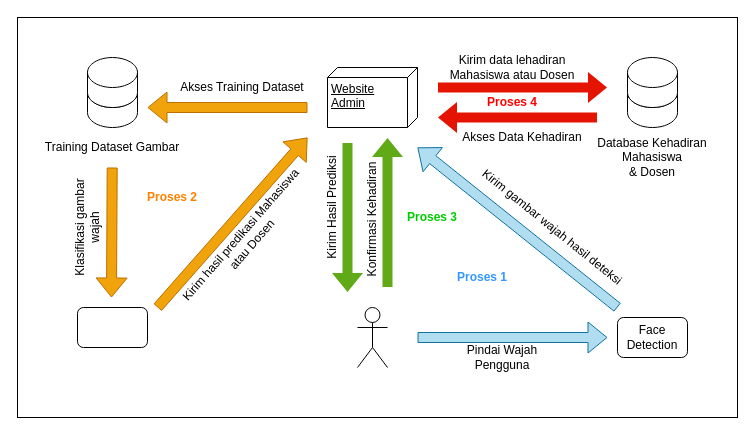
The diagram is 755 pixels wide and 435 high, and some of its shapes have lost their labels. The shapes that lost their labels are listed below. From the top down, each one's box as (x1, y1, x2, y2) in pixels, then its label:
(76, 306, 148, 348): CNN
(356, 306, 388, 368): Pengguna
